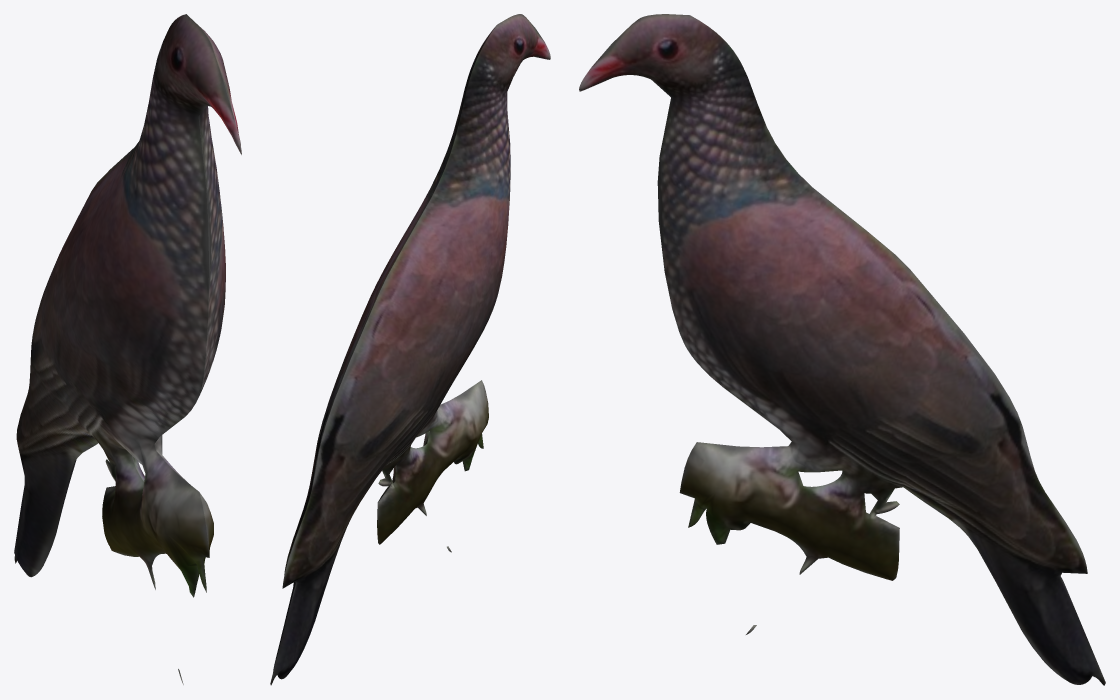
Rendered from 900-removebg-preview.gltf.
3 renders of one model, left to right at view 1: azimuth 30°, elevation 25°; view 2: azimuth 150°, elevation 25°; view 3: azimuth 270°, elevation 25°, orthographic. The views are drawn at different scales.
Parts seen in each view (by area): view 1: node1; view 2: node1; view 3: node1.
Boxes of the visible parts, x1,y1,x2,y2 form: node1: [14, 14, 241, 684]; node1: [270, 14, 550, 685]; node1: [579, 14, 1105, 685].
Bounding box in the file's own units: 0.2845 × 1.6 × 1.19.
1 material, 1 textured.
